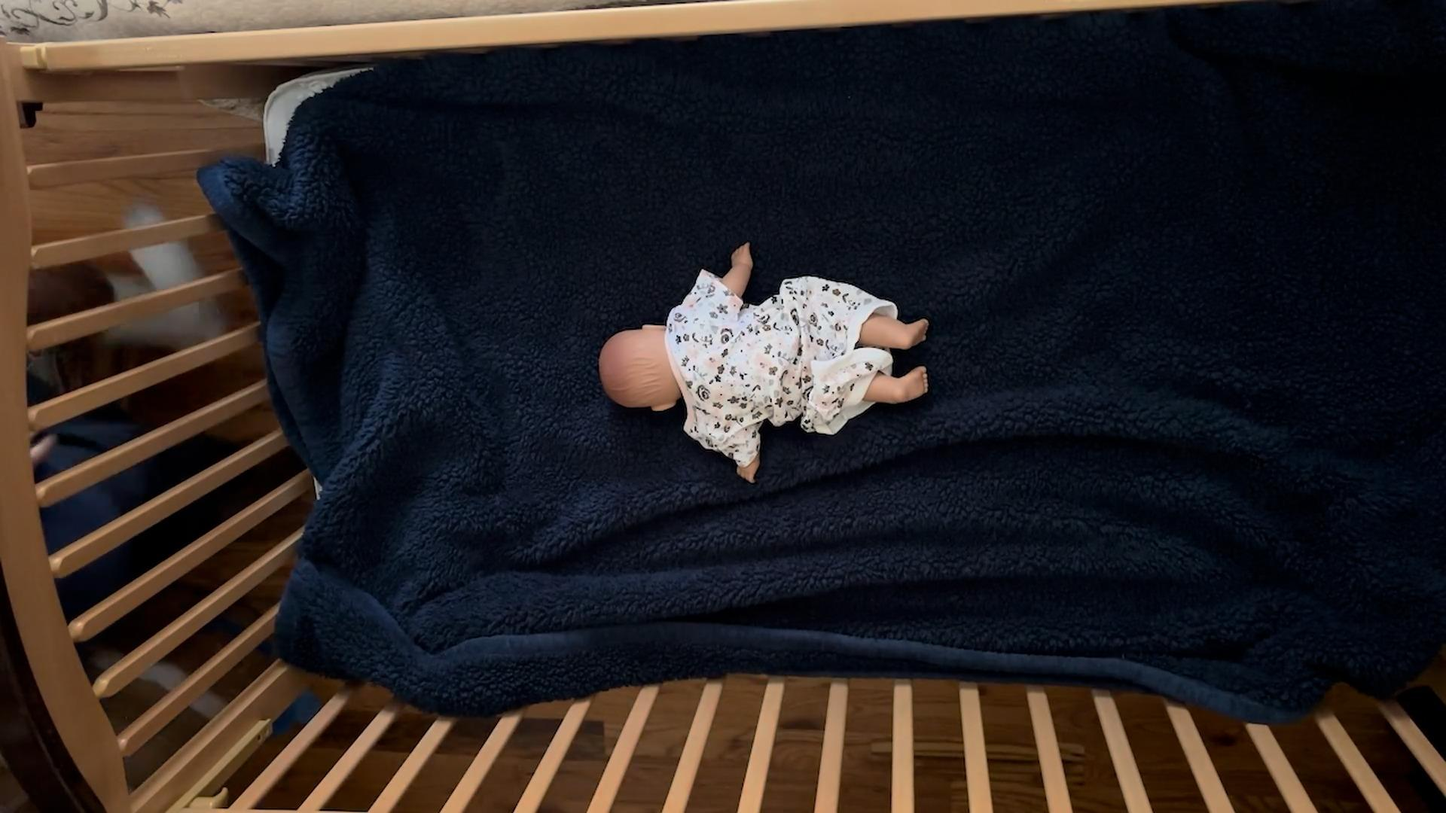baby: (591, 239, 937, 489)
